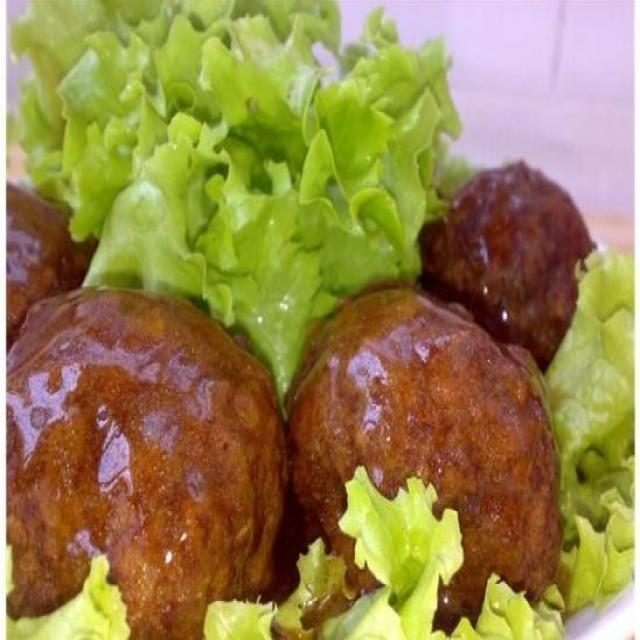Meatball: (279, 270, 568, 640), (8, 287, 289, 640)
